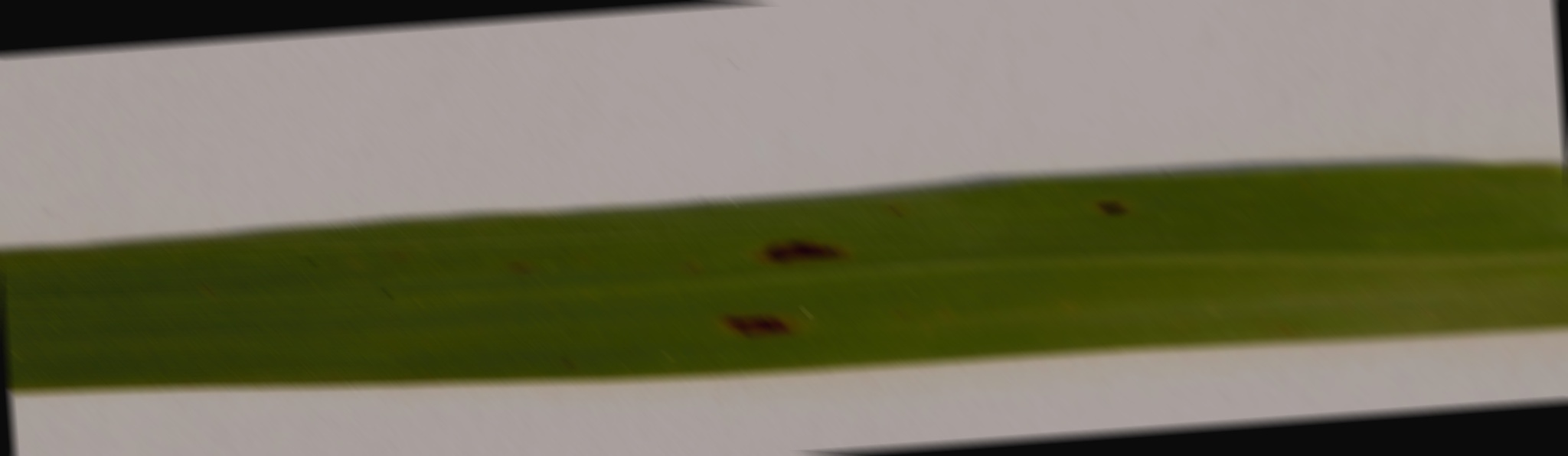Bacterial_Leaf_Blight: (708, 219, 860, 286), (678, 307, 802, 346), (1064, 192, 1150, 229)
